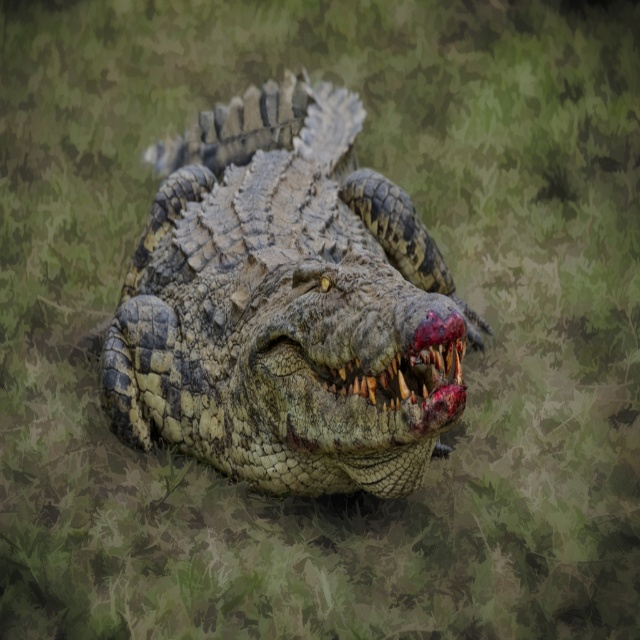Crocodile: (95, 66, 495, 497)
